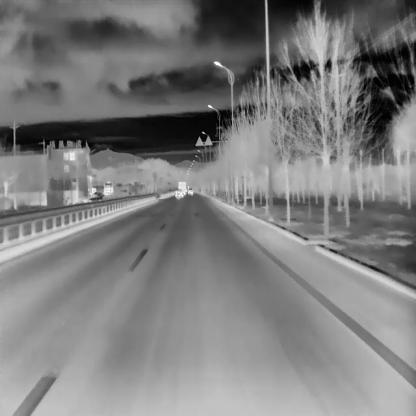car: (86, 190, 104, 202), (174, 188, 183, 198), (187, 187, 193, 194)
truck: (178, 180, 186, 195)
